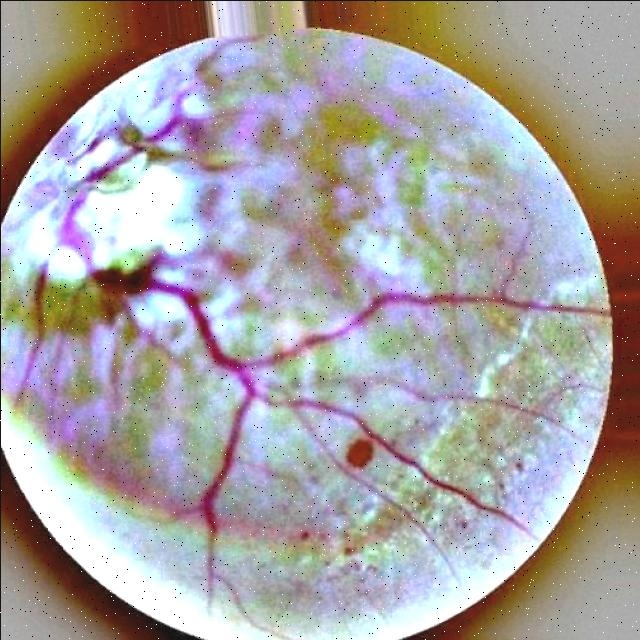Macula: (345, 438, 373, 467)
Nerves: (61, 114, 610, 601), (15, 264, 48, 401)
